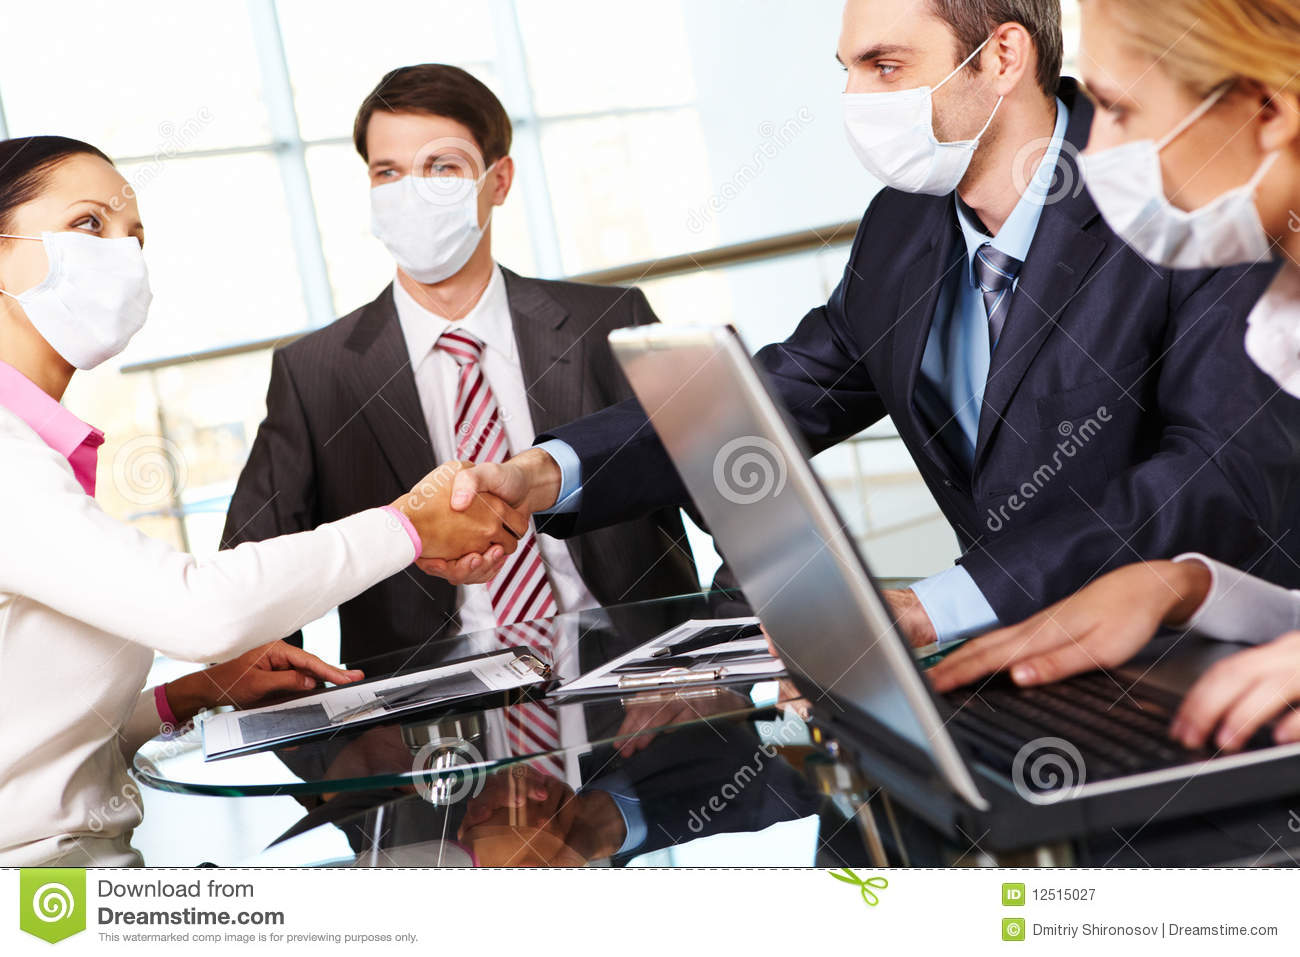mask: (1074, 142, 1276, 269), (19, 229, 156, 373), (839, 86, 978, 195), (369, 177, 488, 287)
